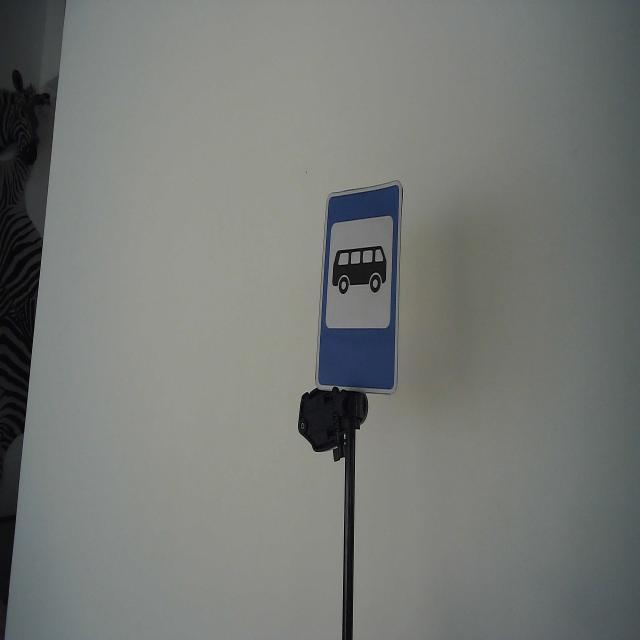bus_stop: (314, 178, 406, 398)
